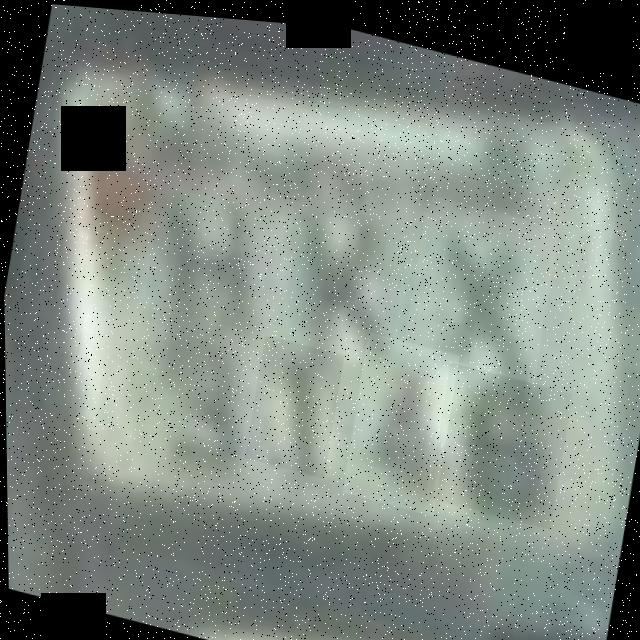1: (242, 329, 344, 474)
4: (339, 324, 460, 510)
6: (424, 353, 573, 521)
9: (128, 302, 262, 479)
B: (137, 171, 283, 346)
K: (273, 190, 411, 349)
X: (399, 185, 560, 376)
